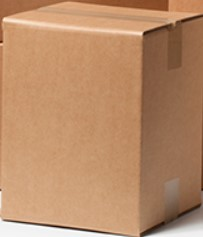stock: (3, 2, 203, 235)
